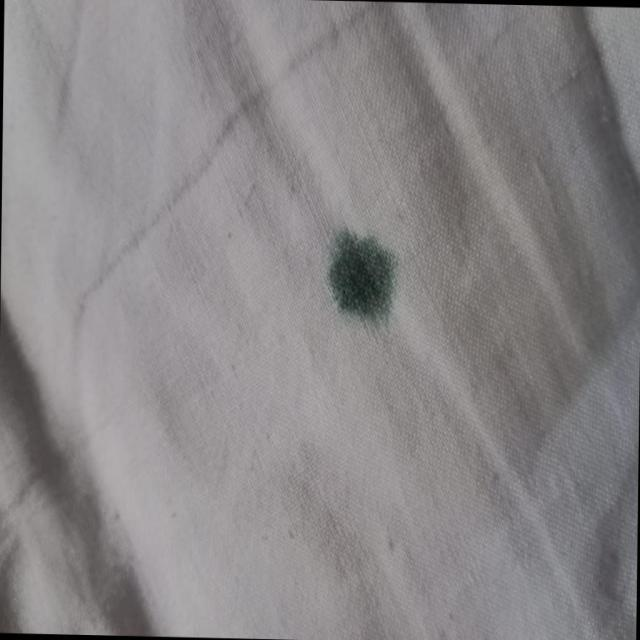stain: (323, 227, 405, 325)
